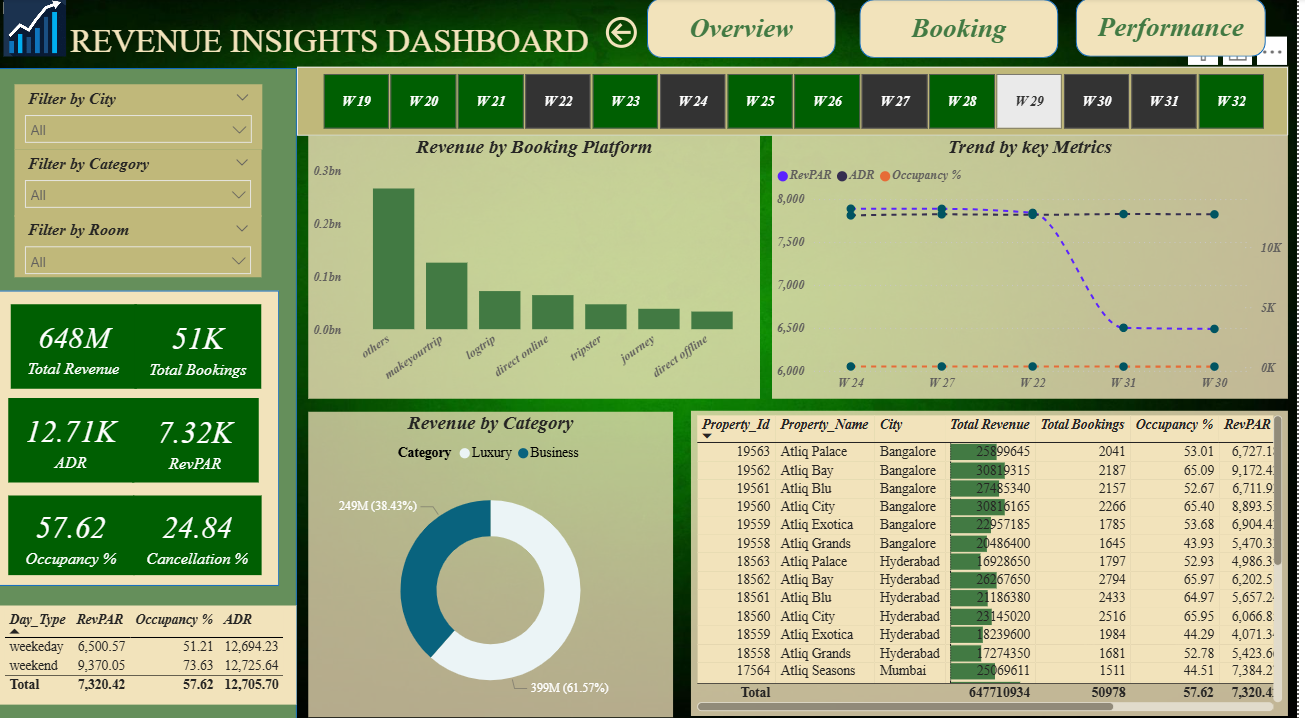

The dashboard page shown, as its layout file describes it:
{"tool":"powerbi","page":{"name":"OverView","canvas":[1280,720],"ordinal":1},"visuals":[{"type":"image","title":"Background_Image","box":[0,0,1280,720],"z":0},{"type":"textbox","title":"Heading","box":[0,0,654.5,68.4],"z":1000},{"type":"image","title":"Logo_revenue","box":[0,0,73.8,57.8],"z":2000},{"type":"slicer","title":"Week Slicer","fields":{"Values":["dim_date.week no"]},"box":[295.1,67.6,976,67.6],"z":3000},{"type":"shape","title":"Shape_Home","box":[0,68.4,295.3,651.6],"z":4000},{"type":"slicer","title":"Filter by City","fields":{"Values":["dim_hotels.City"]},"box":[17.2,84.9,243.7,64],"z":5000},{"type":"slicer","title":"Filter by Category","fields":{"Values":["dim_hotels.Category"]},"box":[17.5,148.4,243.1,66.1],"z":6000},{"type":"slicer","title":"Filter by Room Class","fields":{"Values":["dim_rooms.Room_Class"]},"box":[17.5,214.4,243.1,61.1],"z":7000},{"type":"shape","title":"KPI_Shape","box":[0,288,277.8,290.9],"z":8000},{"type":"card","title":"Total_revenue","fields":{"Values":["fact_bookings.Total Revenue"]},"box":[13.1,301.1,123.6,82.9],"z":9000},{"type":"card","title":"RevPAR","fields":{"Values":["fact_bookings.RevPAR"]},"box":[133.4,394,124.7,83.5],"z":10000},{"type":"card","title":"Occupancy %","fields":{"Values":["fact_bookings.Occupancy %"]},"box":[11.6,490.2,123.6,78.5],"z":11000},{"type":"card","title":"ADR","fields":{"Values":["fact_bookings.ADR"]},"box":[11.6,394.2,123.6,82.9],"z":12000},{"type":"card","title":"Cancellation %","fields":{"Values":["fact_bookings.Cancellation %"]},"box":[133.8,490.2,126.5,78.5],"z":13000},{"type":"card","title":"Total_Bookings","fields":{"Values":["fact_bookings.Total Bookings"]},"box":[135.3,301.1,125.1,82.9],"z":14000},{"type":"tableEx","title":"week_days table","fields":{"Values":["dim_date.day_type","fact_bookings.RevPAR","fact_bookings.Occupancy %","fact_bookings.ADR"]},"box":[1.5,597.8,293.8,97.5],"z":15000},{"type":"tableEx","title":"Property Performance","fields":{"Values":["dim_hotels.Property_Id","dim_hotels.Property_Name","dim_hotels.City","fact_bookings.Total Revenue","fact_bookings.Total Bookings","fact_bookings.Occupancy %","fact_bookings.RevPAR","fact_bookings.ADR","fact_bookings.Cancellation %","Sum(fact_bookings.ratings_given)"]},"box":[683.6,405.8,587.6,301.1],"z":16000},{"type":"donutChart","title":"Revenue by Category","fields":{"Y":["fact_bookings.Total Revenue"],"Category":["dim_hotels.Category"]},"box":[306.9,407.3,359.3,301.1],"z":17000},{"type":"lineChart","title":"Trend by key Metrics","fields":{"Category":["dim_date.week no"],"Y2":["fact_bookings.ADR","fact_bookings.Occupancy %"],"Y":["fact_bookings.RevPAR"]},"box":[763.6,135.3,507.6,258.9],"z":18000},{"type":"shape","title":"Overview_BTN","box":[640,0,185.8,59.1],"z":19000},{"type":"shape","title":"Booking_BTN","box":[849.2,1.2,195.7,57.8],"z":20000},{"type":"shape","title":"Performance_BTN","box":[1062.2,0,187.1,57.8],"z":21000},{"type":"clusteredColumnChart","title":"Revenue by Booking Platform","fields":{"Category":["fact_bookings.booking_platform"],"Y":["fact_bookings.Total Revenue"]},"box":[306.9,135.3,445.1,258.9],"z":22000},{"type":"actionButton","title":"Home_BTN","box":[594.5,13.5,45.5,40.6],"z":23000}]}

Visuals, with their boxes in screenshot pixels (x1, y1, x2, y2), scaled from the page's 1280x720 canvas onto the 1305x718 screenshot:
"Background_Image" image: bbox=(0, 0, 1304, 717)
"Heading" textbox: bbox=(0, 0, 667, 68)
"Logo_revenue" image: bbox=(0, 0, 75, 58)
"Week Slicer" slicer: bbox=(301, 67, 1296, 135)
"Shape_Home" shape: bbox=(0, 68, 301, 717)
"Filter by City" slicer: bbox=(18, 85, 266, 148)
"Filter by Category" slicer: bbox=(18, 148, 266, 214)
"Filter by Room Class" slicer: bbox=(18, 214, 266, 275)
"KPI_Shape" shape: bbox=(0, 287, 283, 577)
"Total_revenue" card: bbox=(13, 300, 139, 383)
"RevPAR" card: bbox=(136, 393, 263, 476)
"Occupancy %" card: bbox=(12, 489, 138, 567)
"ADR" card: bbox=(12, 393, 138, 476)
"Cancellation %" card: bbox=(136, 489, 265, 567)
"Total_Bookings" card: bbox=(138, 300, 265, 383)
"week_days table" tableEx: bbox=(2, 596, 301, 693)
"Property Performance" tableEx: bbox=(697, 405, 1296, 705)
"Revenue by Category" donutChart: bbox=(313, 406, 679, 706)
"Trend by key Metrics" lineChart: bbox=(779, 135, 1296, 393)
"Overview_BTN" shape: bbox=(652, 0, 842, 59)
"Booking_BTN" shape: bbox=(866, 1, 1065, 59)
"Performance_BTN" shape: bbox=(1083, 0, 1274, 58)
"Revenue by Booking Platform" clusteredColumnChart: bbox=(313, 135, 767, 393)
"Home_BTN" actionButton: bbox=(606, 13, 652, 54)
